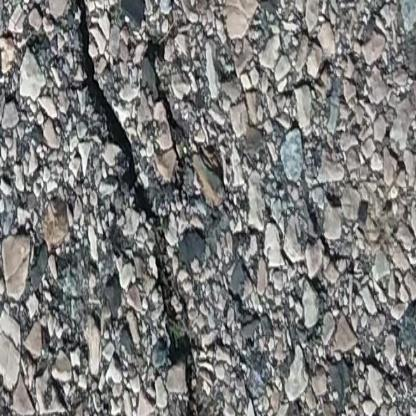Cracks: (60, 0, 203, 416), (140, 30, 191, 205), (300, 191, 356, 267), (223, 283, 280, 338)
